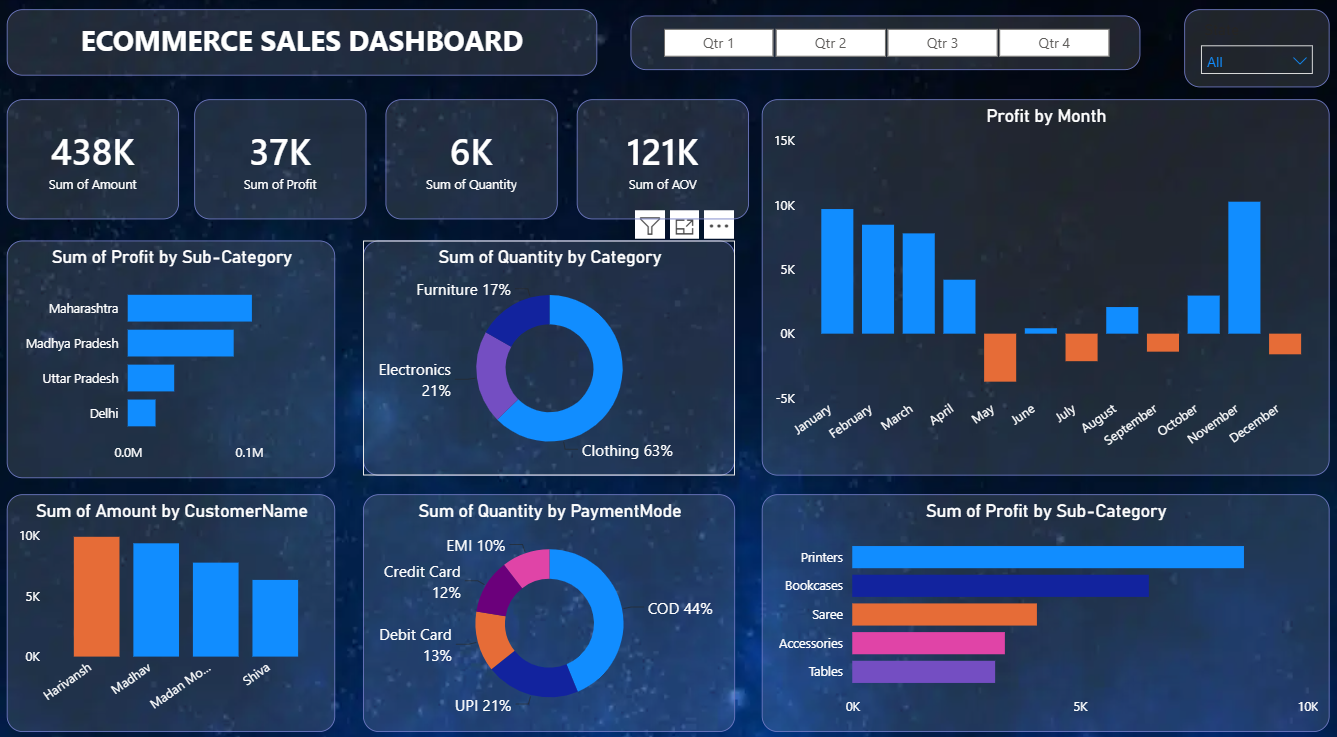

The page's visual inventory and layout, read from the dashboard file:
{"tool":"powerbi","page":{"name":"Page 1","canvas":[1280,720],"ordinal":0},"visuals":[{"type":"textbox","box":[8.2,11,562.6,63.1],"z":0},{"type":"columnChart","title":"Profit by Month","fields":{"Y":["Sum(Details.Profit)"],"Category":["Orders.Order Date.Variation.Date Hierarchy.Month"]},"box":[727.4,96.4,540.5,358.3],"z":1000},{"type":"barChart","title":"Sum of Profit by Sub-Category","fields":{"Y":["Sum(Details.Profit)"],"Category":["Details.Sub-Category"]},"box":[727.4,472.6,540.5,226.2],"z":2000},{"type":"donutChart","fields":{"Category":["Details.Category"],"Y":["Sum(Details.Quantity)"]},"box":[347.6,231,354.8,223.8],"z":3000},{"type":"donutChart","fields":{"Y":["Sum(Details.Quantity)"],"Category":["Details.PaymentMode"]},"box":[347.6,472.6,354.8,226.2],"z":4000},{"type":"cardVisual","fields":{"Data":["Sum(Details.Amount)"]},"box":[8.3,96.4,164.3,114.3],"z":5000},{"type":"cardVisual","fields":{"Data":["Sum(Details.Quantity)"]},"box":[369,96.4,164.3,114.3],"z":6000},{"type":"cardVisual","fields":{"Data":["Sum(Details.Profit)"]},"box":[186.9,96.4,164.3,114.3],"z":7000},{"type":"cardVisual","fields":{"Data":["Sum(Details.AOV)"]},"box":[551.2,96.4,164.3,114.3],"z":8000},{"type":"barChart","title":"Sum of Profit by Sub-Category","fields":{"Category":["Orders.State"],"Y":["Sum(Details.Amount)"]},"box":[8.3,231,313.1,226.2],"z":9000},{"type":"columnChart","fields":{"Category":["Orders.CustomerName"],"Y":["Sum(Details.Amount)"]},"box":[8.2,472,312.9,226.4],"z":10000},{"type":"slicer","fields":{"Values":["Orders.Order Date.Variation.Date Hierarchy.Quarter"]},"box":[602.4,16.5,485.8,52.1],"z":11000},{"type":"slicer","fields":{"Values":["Orders.State"]},"box":[1129.3,11,138.6,74.1],"z":11001}]}

Visuals, with their boxes in screenshot pixels (x1, y1, x2, y2), scaled from the page's 1280x720 canvas onto the 1337x737 screenshot:
textbox: 9,11,596,76
"Profit by Month" columnChart: 760,99,1324,465
"Sum of Profit by Sub-Category" barChart: 760,484,1324,715
donutChart - Details.Category x Sum(Details.Quantity): 363,236,734,466
donutChart - Sum(Details.Quantity) x Details.PaymentMode: 363,484,734,715
cardVisual - Sum(Details.Amount): 9,99,180,216
cardVisual - Sum(Details.Quantity): 385,99,557,216
cardVisual - Sum(Details.Profit): 195,99,367,216
cardVisual - Sum(Details.AOV): 576,99,747,216
"Sum of Profit by Sub-Category" barChart: 9,236,336,468
columnChart - Orders.CustomerName x Sum(Details.Amount): 9,483,335,715
slicer - Orders.Order Date.Variation.Date Hierarchy.Quarter: 629,17,1137,70
slicer - Orders.State: 1180,11,1324,87
